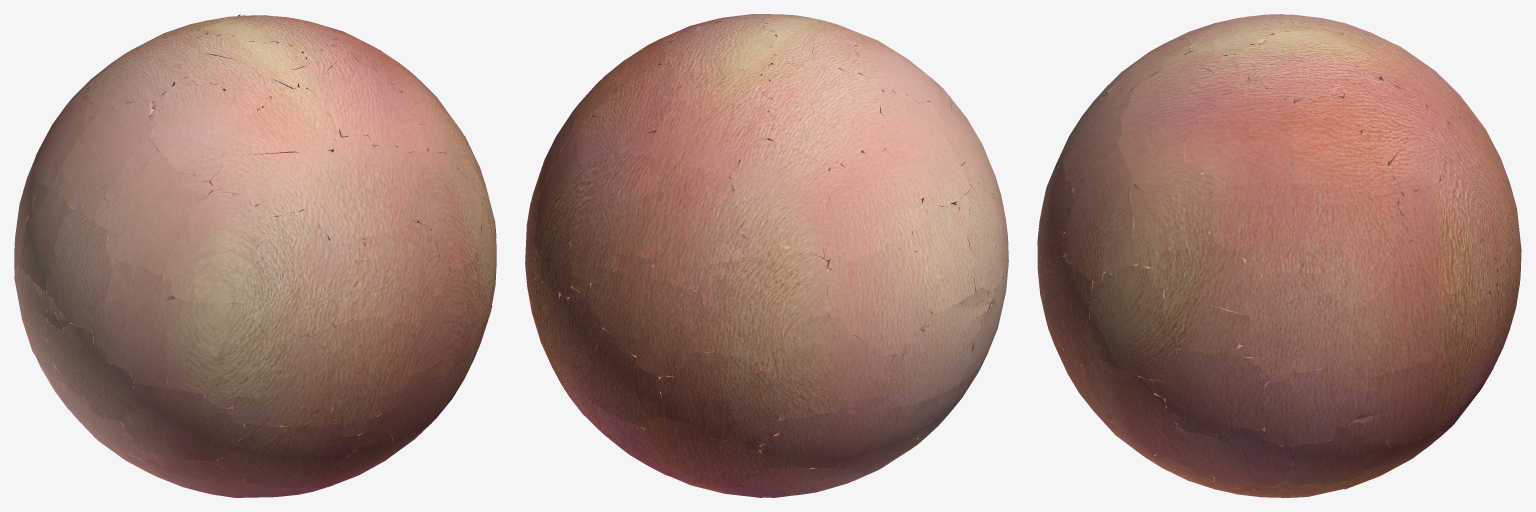
Rendered from Peach Sphere.glb.
3 renders of one model, left to right at view 1: azimuth 30°, elevation 25°; view 2: azimuth 150°, elevation 25°; view 3: azimuth 270°, elevation 25°, orthographic.
Visible parts, largest first — view 1: texture_mapping; view 2: texture_mapping; view 3: texture_mapping.
Boxes of the visible parts, x1,y1,x2,y2 form: texture_mapping: [14, 14, 496, 497]; texture_mapping: [525, 14, 1008, 497]; texture_mapping: [1037, 14, 1521, 497].
Size of the model in its own units: 1 by 1 by 1.
Materials: 1 (1 with a texture image).
